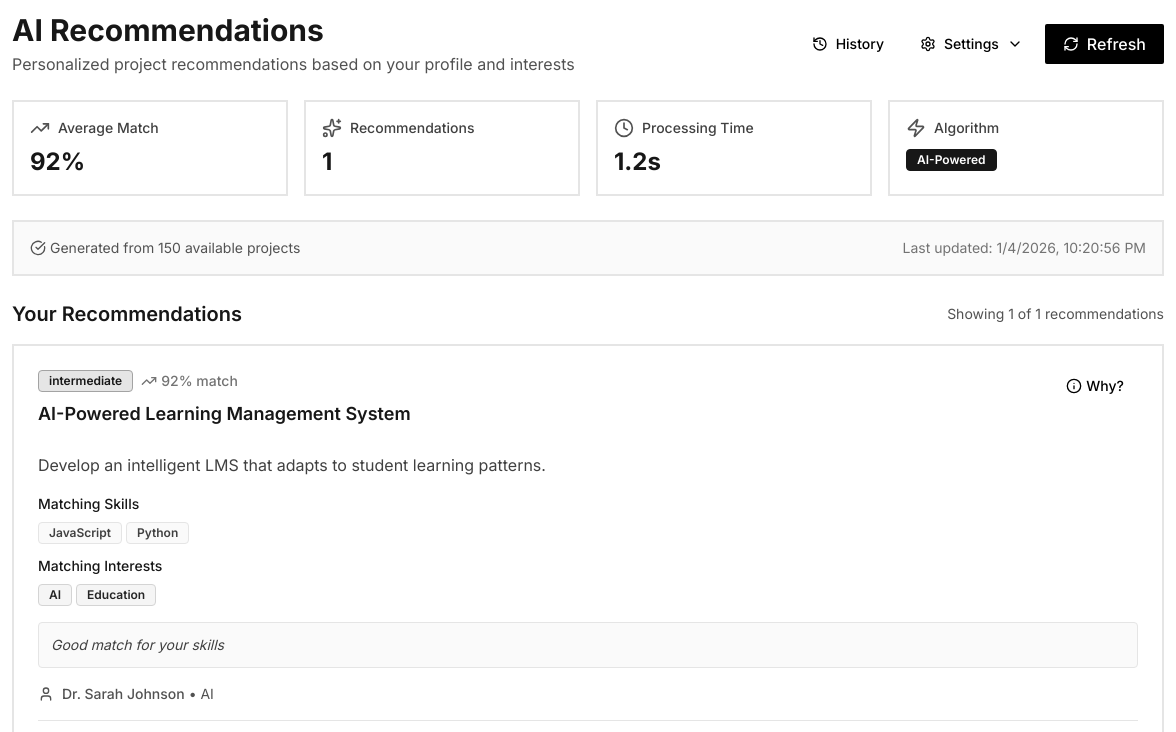
Scenario: RecommendationsDashboard › shows history when history button is clicked
This screenshot has width=1176, height=732.
Click the button "History" at (848, 44), box x1=798 y1=28 x2=898 y2=60
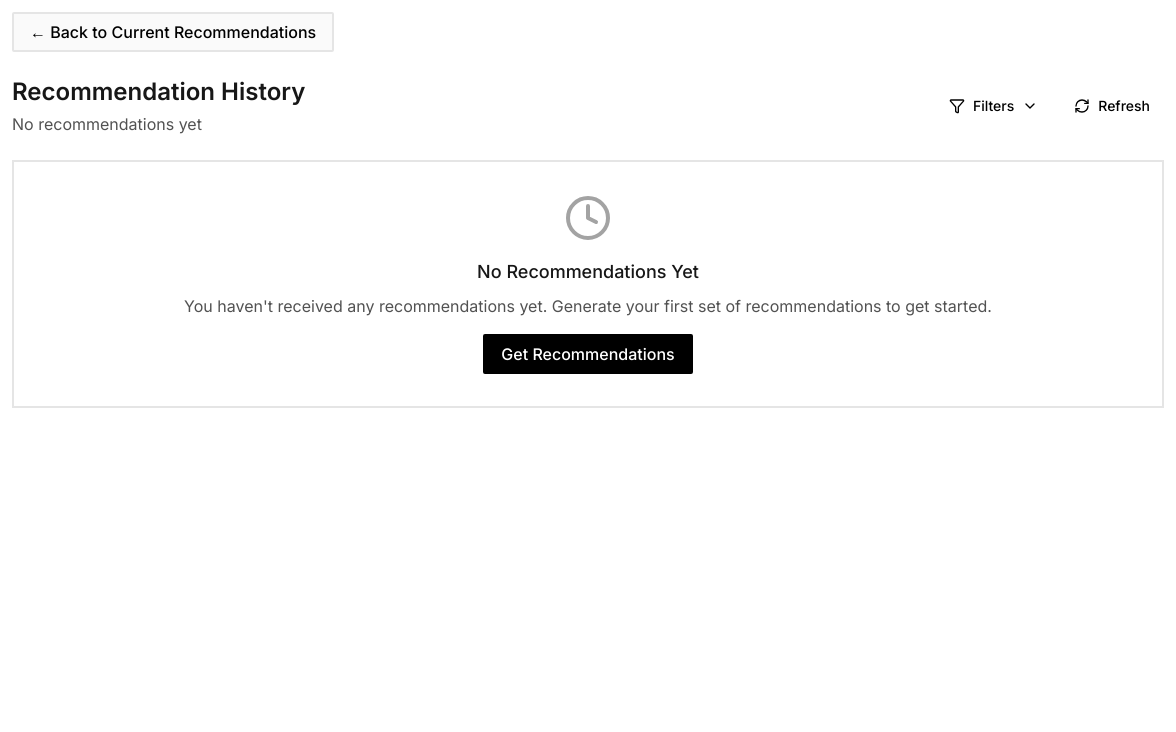
Result: the heading "Recommendation History" is shown at x1=12 y1=76 x2=305 y2=108
